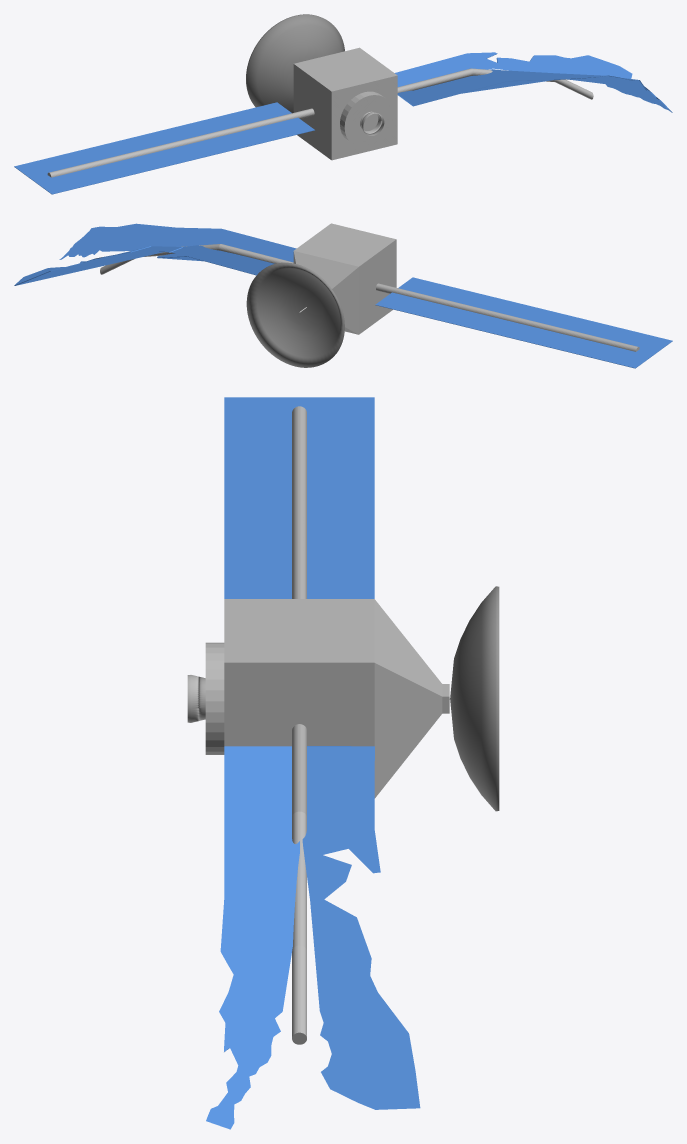
Rendered from broken_satellite.glb.
3 renders of one model, top to bottom at view 1: azimuth 30°, elevation 25°; view 2: azimuth 150°, elevation 25°; view 3: azimuth 270°, elevation 25°, orthographic. The views are drawn at different scales.
Visible parts, largest first — view 1: Plane.001, Cube, Plane, NurbsCurve, Cylinder.003, Cylinder.002, Cylinder.001, NurbsCurve.001; view 2: Plane.001, NurbsCurve, Plane, Cube, Cylinder.002, Cylinder.001; view 3: Plane, Cube, Plane.001, NurbsCurve, Cylinder.001, Cylinder.002, Cylinder.003.
Part boxes in pixels (x1=…): Plane.001: x1=14, y1=102, x2=314, y2=194; Cube: x1=293, y1=47, x2=397, y2=160; Plane: x1=395, y1=52, x2=672, y2=112; NurbsCurve: x1=246, y1=14, x2=344, y2=113; Cylinder.003: x1=340, y1=91, x2=393, y2=147; Cylinder.002: x1=47, y1=108, x2=314, y2=177; Cylinder.001: x1=397, y1=68, x2=593, y2=99; NurbsCurve.001: x1=360, y1=111, x2=384, y2=135; Plane.001: x1=375, y1=277, x2=672, y2=368; NurbsCurve: x1=246, y1=262, x2=344, y2=367; Plane: x1=14, y1=223, x2=296, y2=285; Cube: x1=293, y1=223, x2=396, y2=334; Cylinder.002: x1=376, y1=283, x2=639, y2=351; Cylinder.001: x1=100, y1=244, x2=293, y2=274; Plane: x1=206, y1=746, x2=420, y2=1129; Cube: x1=224, y1=599, x2=449, y2=798; Plane.001: x1=224, y1=397, x2=374, y2=598; NurbsCurve: x1=450, y1=586, x2=499, y2=811; Cylinder.001: x1=292, y1=724, x2=306, y2=1044; Cylinder.002: x1=292, y1=406, x2=306, y2=598; Cylinder.003: x1=205, y1=642, x2=224, y2=754.
Bounding box in the file's own units: 18.82 × 3.49 × 4.15.
